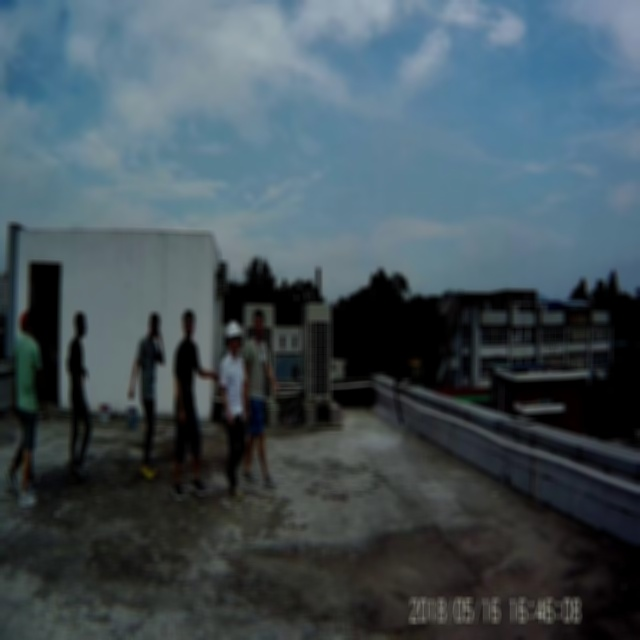Con_Casco: (227, 320, 241, 357)
Sin_Casco_Mascarrilla: (254, 308, 265, 336)
Sin_Chaleco: (220, 355, 245, 427), (246, 337, 270, 403)
